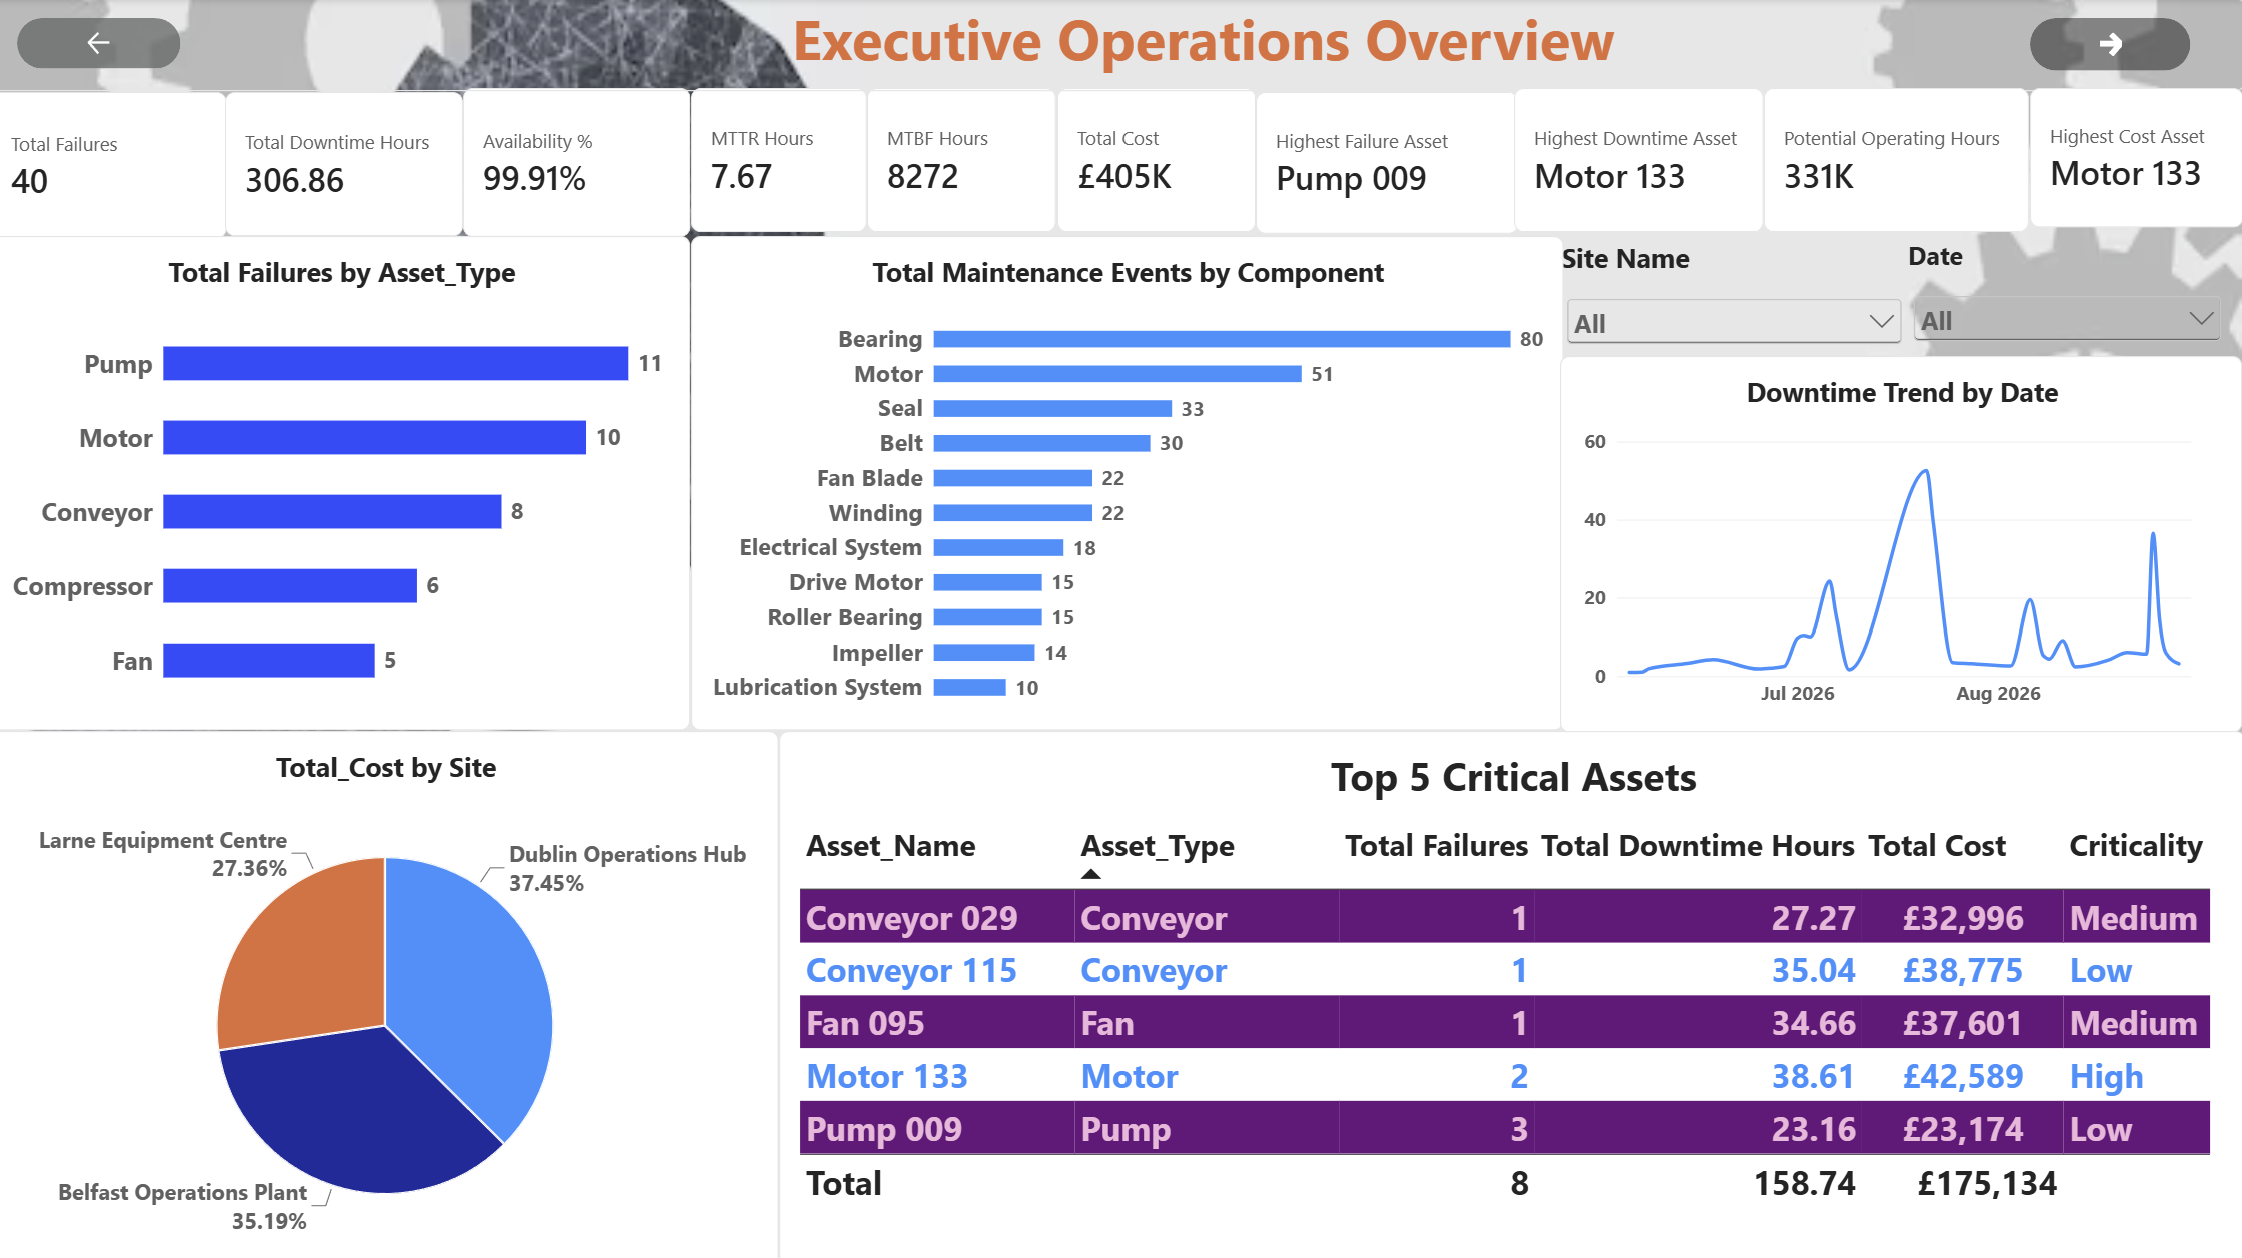

Layout of this report page (visuals, bound fields, positions):
{"tool":"powerbi","page":{"name":"Executive Operations Overview","canvas":[1920,1080],"ordinal":1},"visuals":[{"type":"cardVisual","fields":{"Data":["fact_failure.Total Failures"]},"box":[0,79.6,201,125.6],"z":0},{"type":"cardVisual","fields":{"Data":["fact_failure.Total Downtime Hours"]},"box":[198.9,79.6,203.1,123.5],"z":1000},{"type":"cardVisual","fields":{"Data":["dim_asset.Availability %"]},"box":[402,77.5,194.7,127.7],"z":2000},{"type":"cardVisual","fields":{"Data":["dim_asset.MTTR Hours"]},"box":[596.7,77.5,150.8,123.5],"z":3000},{"type":"cardVisual","fields":{"Data":["dim_asset.MTBF Hours"]},"box":[747.5,77.5,161.2,123.5],"z":4000},{"type":"cardVisual","fields":{"Data":["fact_cost.Total Cost"]},"box":[908.7,77.5,169.6,123.5],"z":5000},{"type":"slicer","title":"Site Name","fields":{"Values":["dim_site.Site_Name"]},"box":[1337.9,205.2,297.3,100.5],"z":6000},{"type":"slicer","title":"Date","fields":{"Values":["dim_date.Date"]},"box":[1635.2,205.2,272.2,100.5],"z":7000},{"type":"clusteredBarChart","title":"Total Failures by Asset_Type","fields":{"Category":["dim_asset.Asset_Type"],"Y":["fact_failure.Total Failures"]},"box":[0,203.1,596.7,420.9],"z":8000},{"type":"clusteredBarChart","title":"Total Maintenance Events by Component","fields":{"Category":["fact_maintenance.Component"],"Y":["fact_maintenance.Total Maintenance Events"]},"box":[596.7,203.1,743.3,420.9],"z":9000},{"type":"textbox","box":[0,0,1922.1,79.6],"z":10000},{"type":"lineChart","title":"Downtime Trend by Date","fields":{"Category":["dim_date.Date"],"Y":["fact_failure.Total Downtime Hours"]},"box":[1337.9,305.7,582.1,320.3],"z":11000},{"type":"pieChart","title":"Total_Cost by Site","fields":{"Category":["dim_site.Site_Name"],"Y":["Sum(fact_cost.Total_Cost)"]},"box":[0,623.9,672.1,458.5],"z":12000},{"type":"cardVisual","fields":{"Data":["fact_failure.Highest Failure Asset"]},"box":[1078.3,79.6,224,121.4],"z":13000},{"type":"cardVisual","fields":{"Data":["fact_failure.Highest Downtime Asset"]},"box":[1298.1,77.5,213.6,123.5],"z":14000},{"type":"cardVisual","fields":{"Data":["fact_failure.Highest Cost Asset"]},"box":[1738.2,77.6,182.2,119.3],"z":15000},{"type":"cardVisual","fields":{"Data":["dim_asset.Potential Operating Hours"]},"box":[1511.7,77.5,226.1,123.5],"z":16000},{"type":"tableEx","title":"Top 5 Critical Assets","fields":{"Values":["dim_asset.Asset_Name","dim_asset.Asset_Type","fact_failure.Total Failures","fact_failure.Total Downtime Hours","fact_cost.Total Cost","dim_asset.Criticality"]},"box":[672,625,1250,455.5],"z":17000},{"type":"actionButton","box":[1738.2,16.3,136.9,44.9],"z":18000},{"type":"actionButton","box":[21.6,17.7,139.5,43.2],"z":18001}]}

Visuals, with their boxes in screenshot pixels (x1, y1, x2, y2), scaled from the page's 1920x1080 canvas onto the 2242x1258 screenshot:
cardVisual - fact_failure.Total Failures: locate(0, 93, 235, 239)
cardVisual - fact_failure.Total Downtime Hours: locate(232, 93, 469, 237)
cardVisual - dim_asset.Availability %: locate(469, 90, 697, 239)
cardVisual - dim_asset.MTTR Hours: locate(697, 90, 873, 234)
cardVisual - dim_asset.MTBF Hours: locate(873, 90, 1061, 234)
cardVisual - fact_cost.Total Cost: locate(1061, 90, 1259, 234)
"Site Name" slicer: locate(1562, 239, 1909, 356)
"Date" slicer: locate(1909, 239, 2227, 356)
"Total Failures by Asset_Type" clusteredBarChart: locate(0, 237, 697, 727)
"Total Maintenance Events by Component" clusteredBarChart: locate(697, 237, 1565, 727)
textbox: locate(0, 0, 2241, 93)
"Downtime Trend by Date" lineChart: locate(1562, 356, 2241, 729)
"Total_Cost by Site" pieChart: locate(0, 727, 785, 1257)
cardVisual - fact_failure.Highest Failure Asset: locate(1259, 93, 1521, 234)
cardVisual - fact_failure.Highest Downtime Asset: locate(1516, 90, 1765, 234)
cardVisual - fact_failure.Highest Cost Asset: locate(2030, 90, 2241, 229)
cardVisual - dim_asset.Potential Operating Hours: locate(1765, 90, 2029, 234)
"Top 5 Critical Assets" tableEx: locate(785, 728, 2241, 1257)
actionButton: locate(2030, 19, 2190, 71)
actionButton: locate(25, 21, 188, 71)
